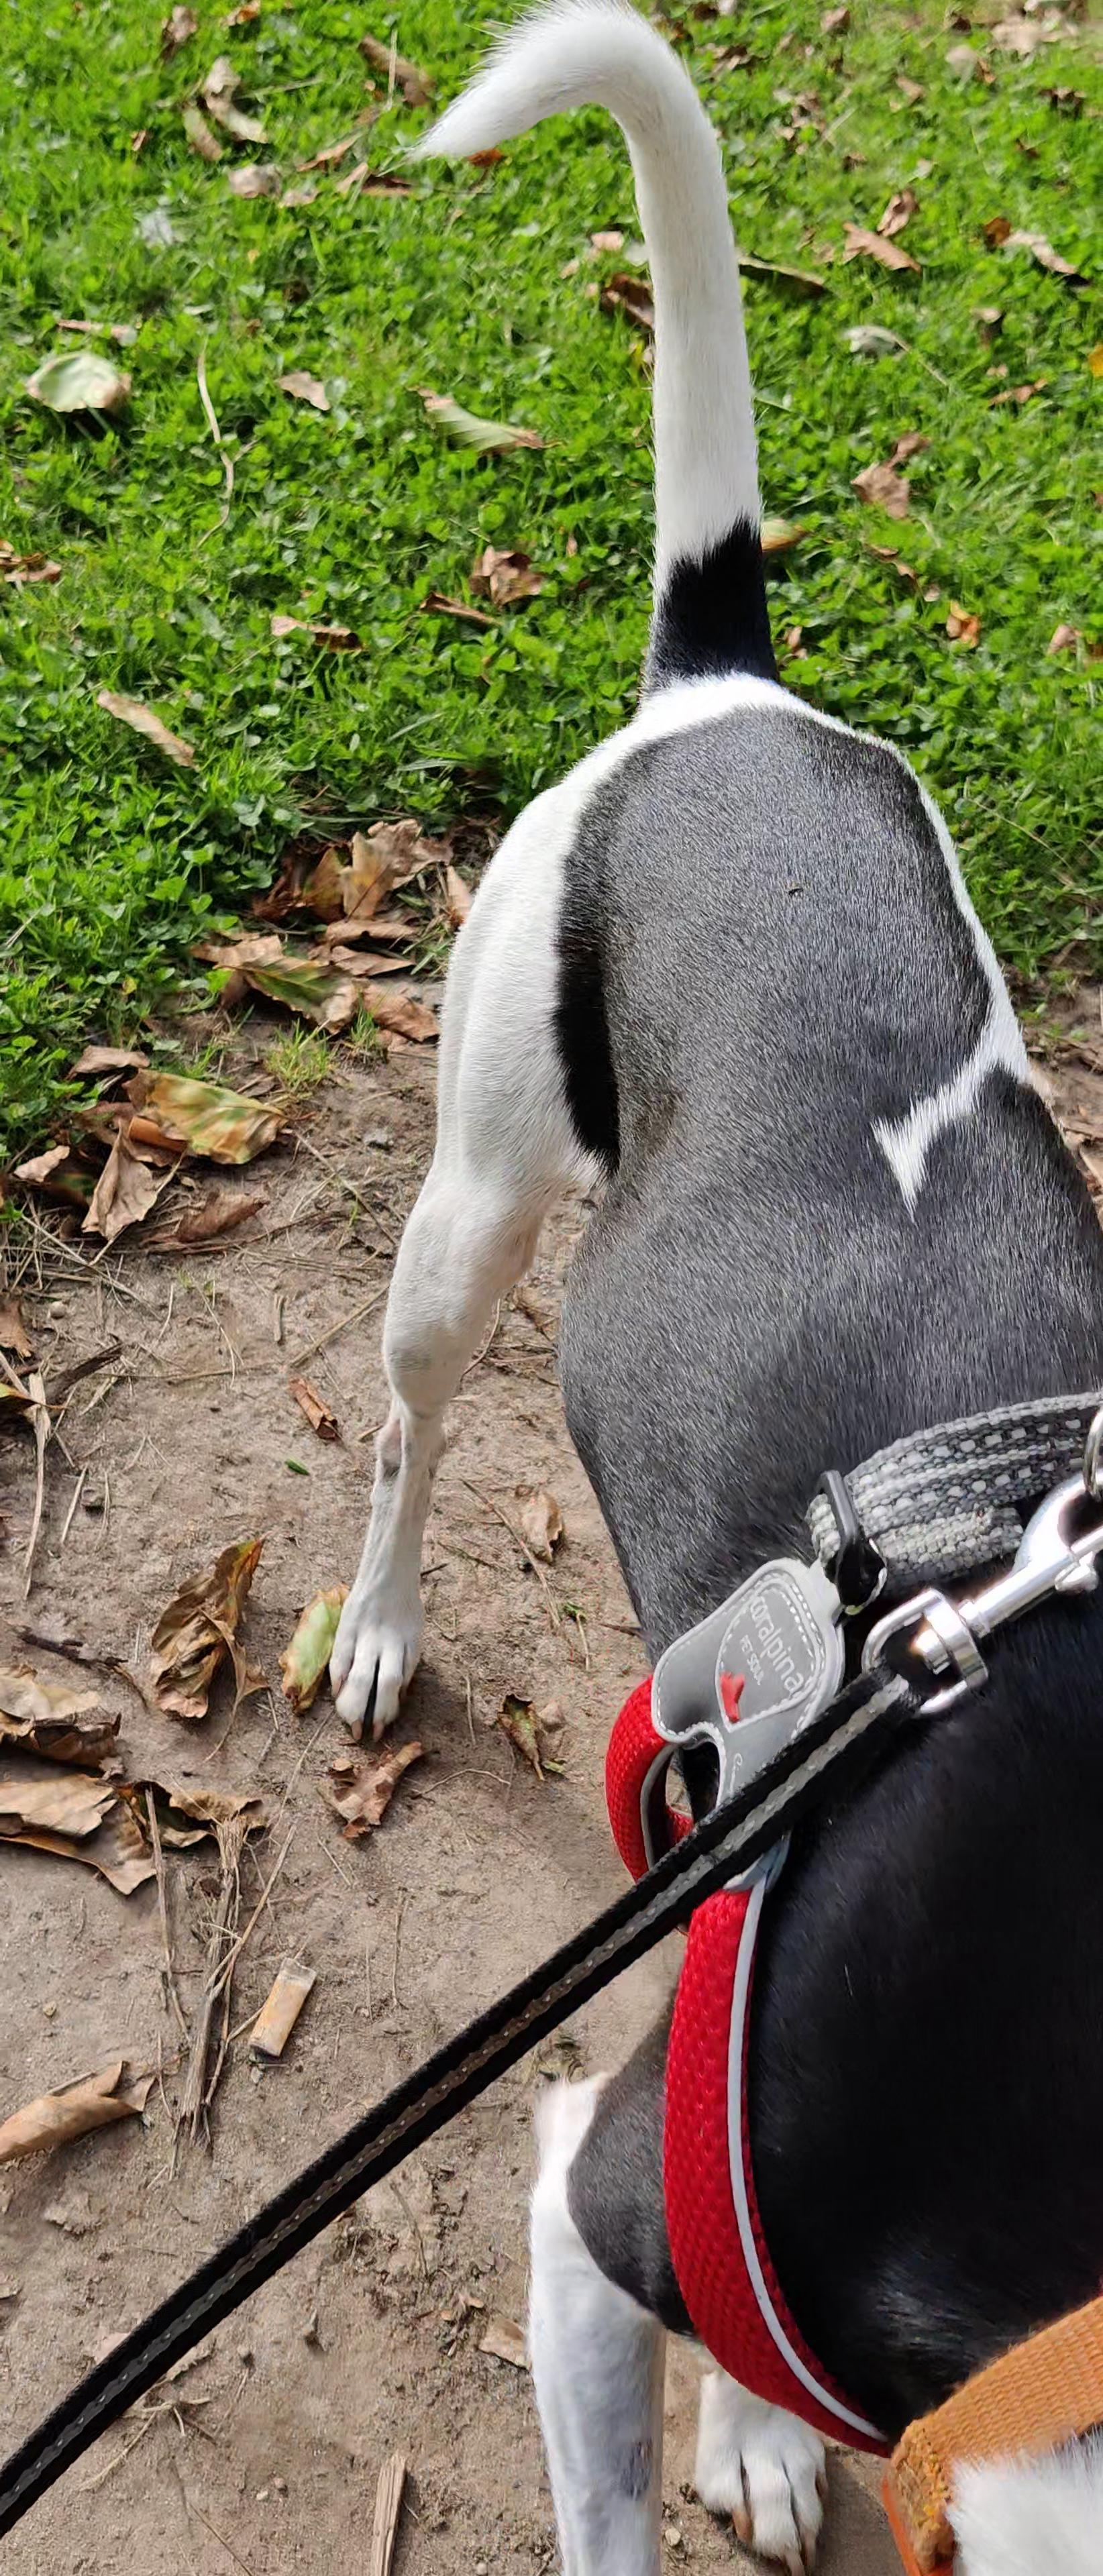Dog: (260, 0, 1103, 2576)
